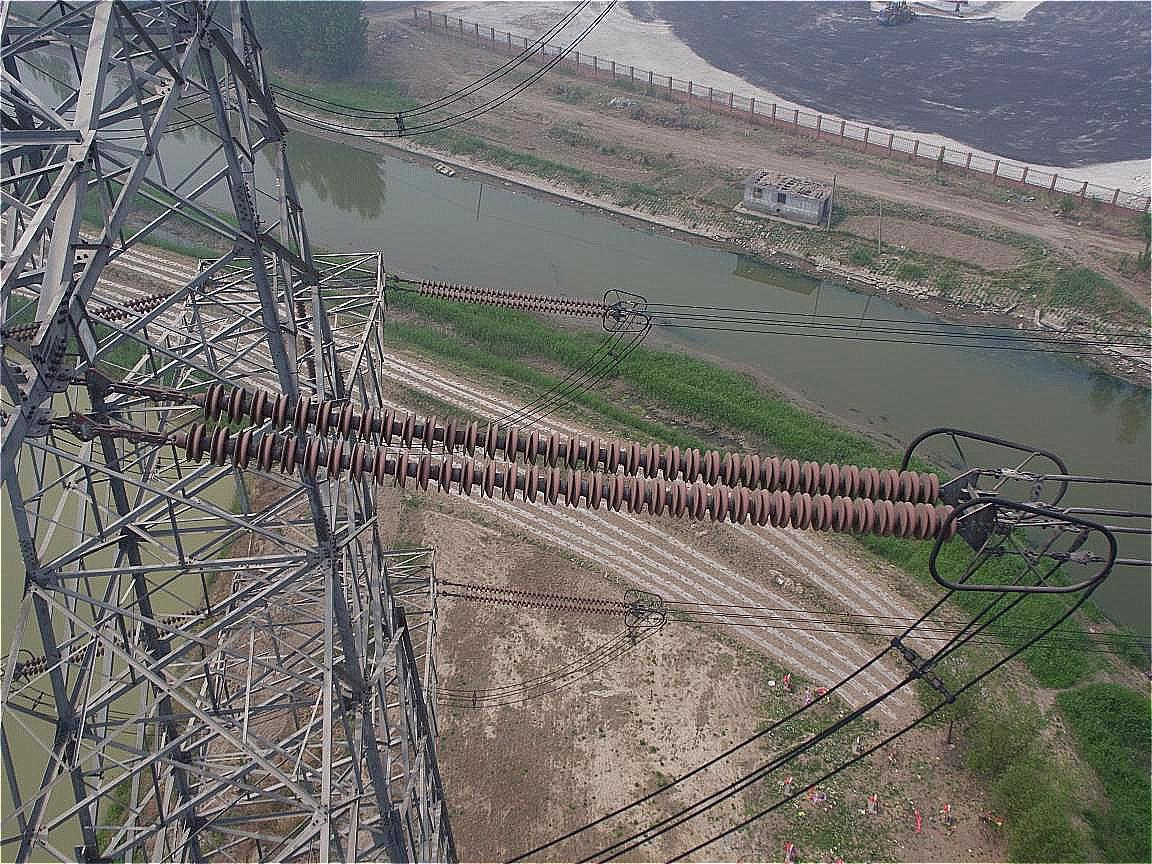insultor1: (410, 271, 619, 328), (452, 572, 645, 626)
insultor2: (167, 364, 996, 561)
